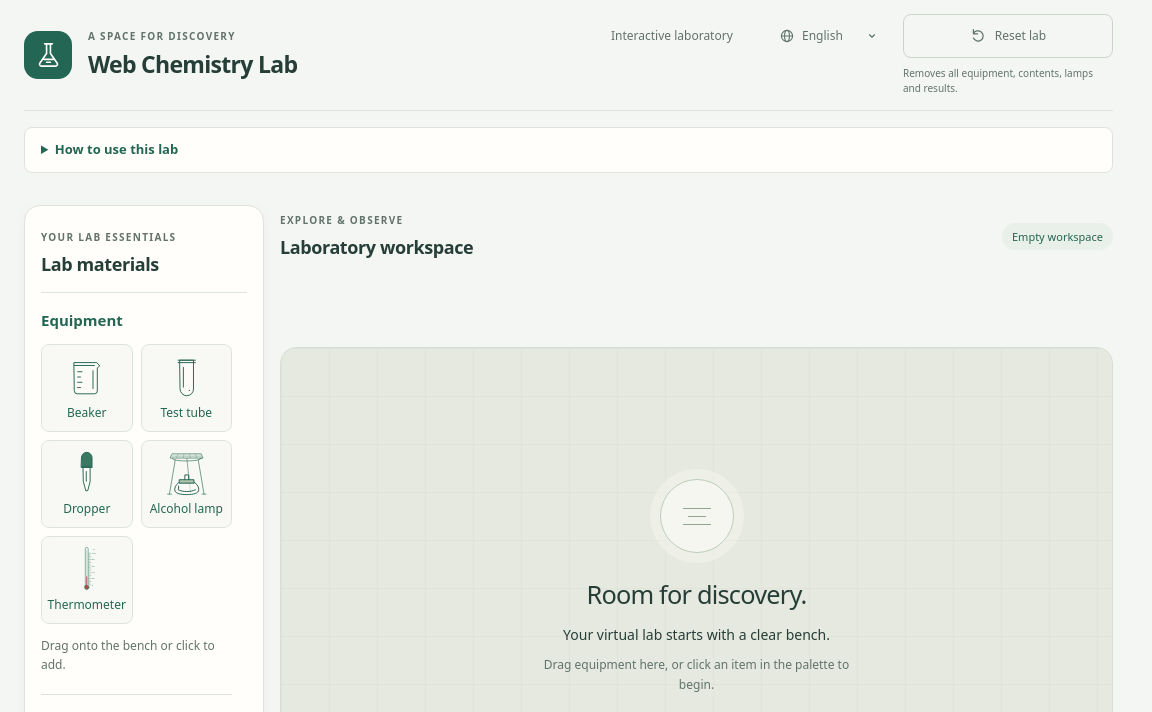
Test: M2 chemical and container interactions › shows the full catalog and accepts only a selected supported container
The width and height of the screenshot is (1152, 712).
Click the button with aria-label "Add Alcohol lamp" at [186, 484], box [140,440,232,528]
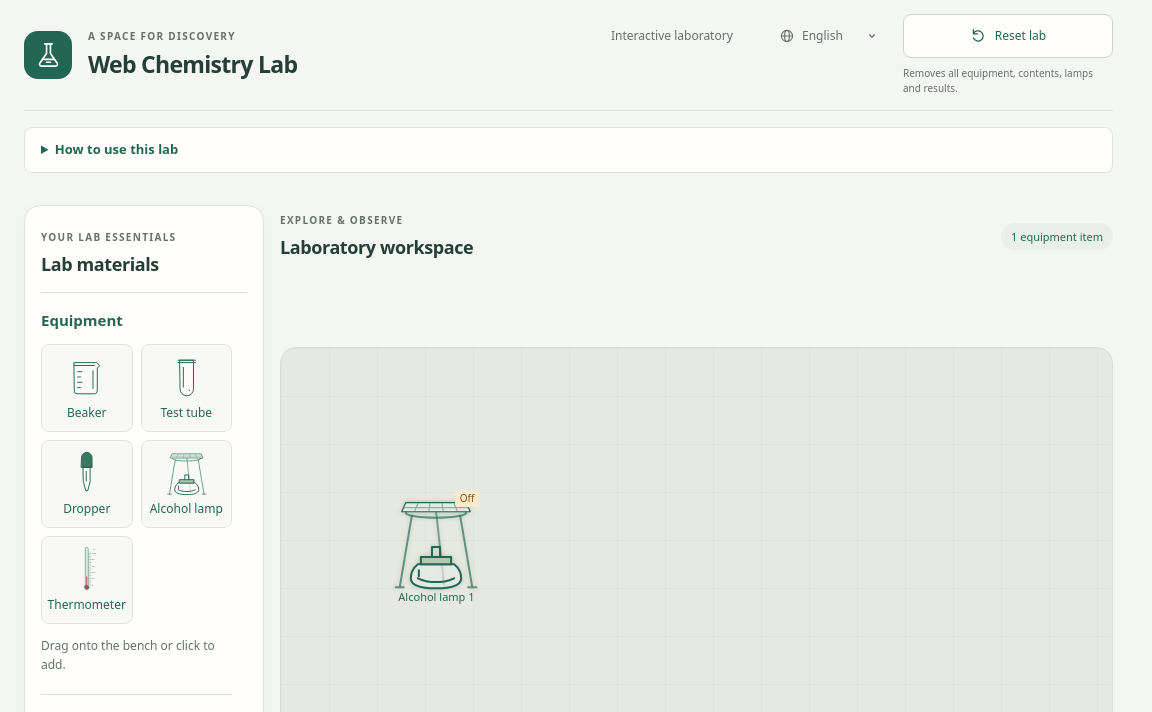
Click the button with aria-label "Add Beaker" at [87, 388], box [41,344,132,432]
(page scrolled)
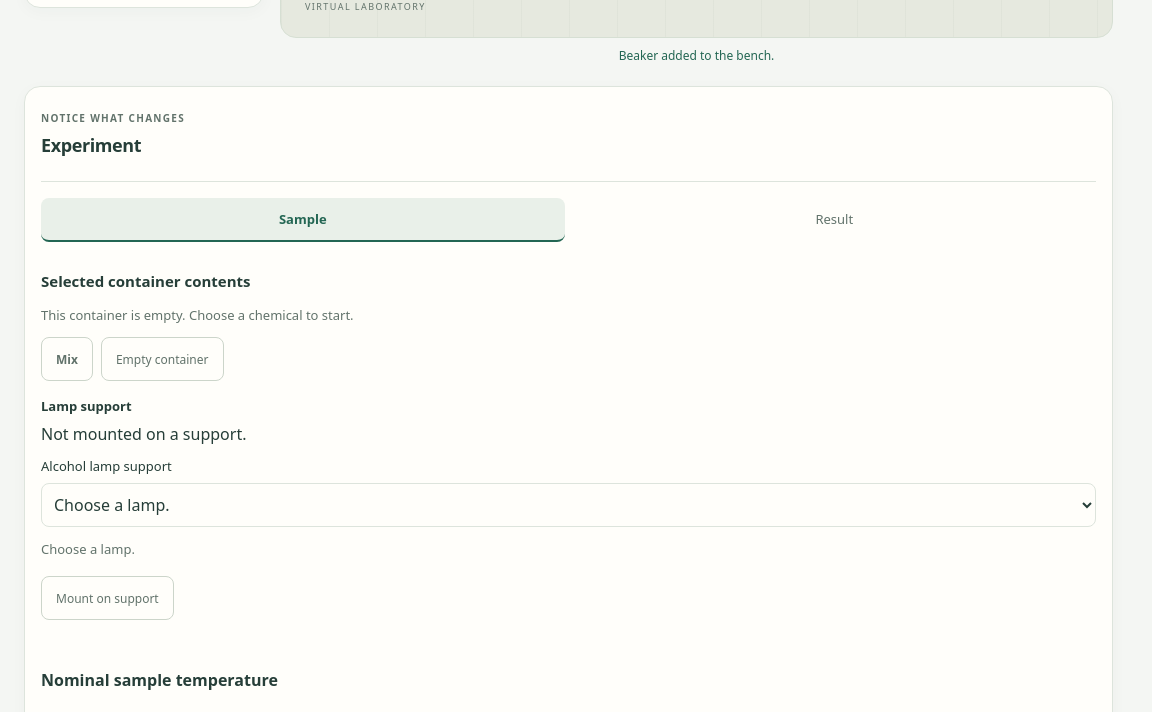
Expected: the text "This container is empty. Choose a chemical to start." is shown, [41,306,354,324]
Expected: the button "Empty container" is disabled, [101,337,224,381]
Expected: the button "Mix" is disabled, [41,337,93,381]
